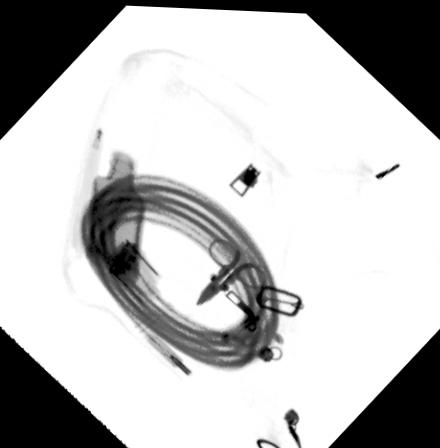Scissors: (195, 235, 270, 302)
